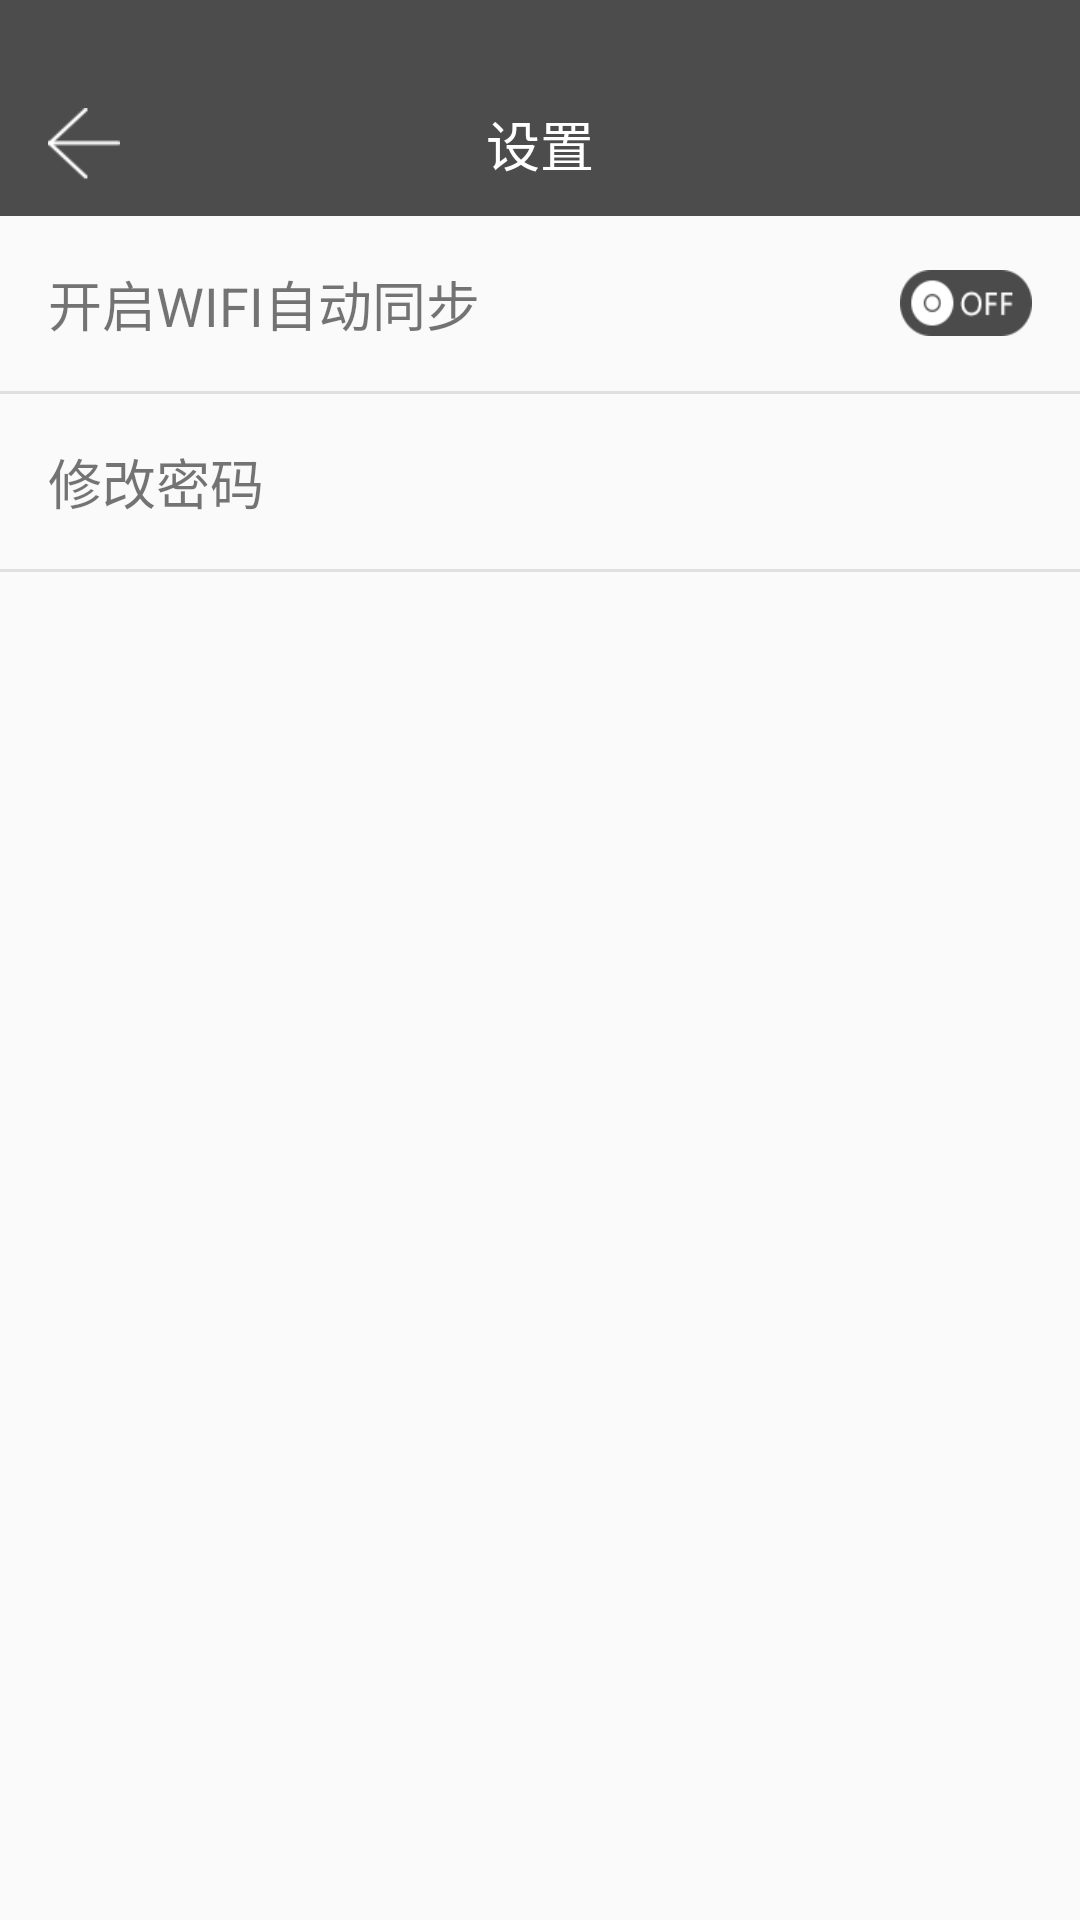

Icons on this 1080 × 1920 Android screen, each with the point to tap as point (x, y):
back: point (84, 143)
